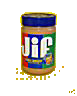grozi_108: (20, 13, 55, 74)
